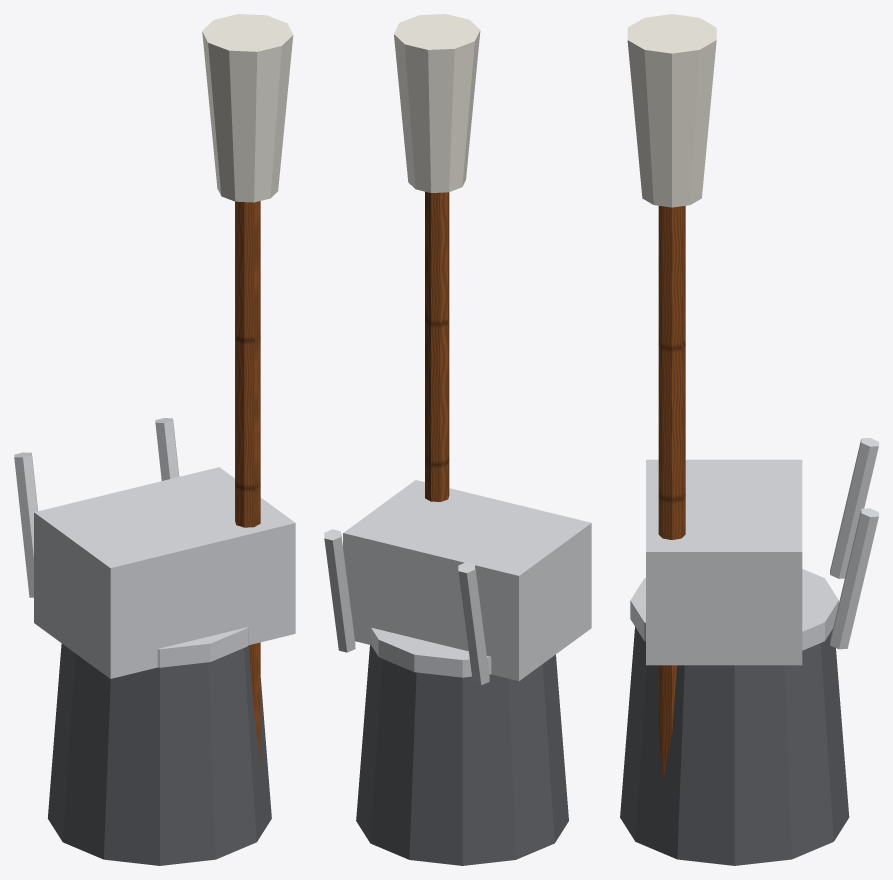
The model's file is mop_bucket_and_wringer.glb.
3 views of the same model, side by side, from view 1: azimuth 30°, elevation 25°; view 2: azimuth 150°, elevation 25°; view 3: azimuth 270°, elevation 25° (orthographic). The views are drawn at different scales.
Visible parts, largest first — view 1: mop-bucket-and-wringer-steel, mop-bucket-and-wringer-charcoal, mop-bucket-and-wringer-cream, mop-bucket-and-wringer-timber; view 2: mop-bucket-and-wringer-steel, mop-bucket-and-wringer-charcoal, mop-bucket-and-wringer-cream, mop-bucket-and-wringer-timber; view 3: mop-bucket-and-wringer-charcoal, mop-bucket-and-wringer-steel, mop-bucket-and-wringer-cream, mop-bucket-and-wringer-timber.
Part boxes in pixels (<box>): mop-bucket-and-wringer-steel: <box>14,418,295,678</box>; mop-bucket-and-wringer-charcoal: <box>47,643,271,865</box>; mop-bucket-and-wringer-cream: <box>202,14,293,202</box>; mop-bucket-and-wringer-timber: <box>235,201,260,762</box>; mop-bucket-and-wringer-steel: <box>324,480,591,685</box>; mop-bucket-and-wringer-charcoal: <box>356,645,568,865</box>; mop-bucket-and-wringer-cream: <box>394,14,480,192</box>; mop-bucket-and-wringer-timber: <box>425,191,449,501</box>; mop-bucket-and-wringer-charcoal: <box>620,627,849,865</box>; mop-bucket-and-wringer-steel: <box>630,438,878,665</box>; mop-bucket-and-wringer-cream: <box>627,14,716,207</box>; mop-bucket-and-wringer-timber: <box>658,205,685,781</box>.
Bounding box in the file's own units: 0.44 × 1.72 × 0.4969.
4 materials, 1 textured.
